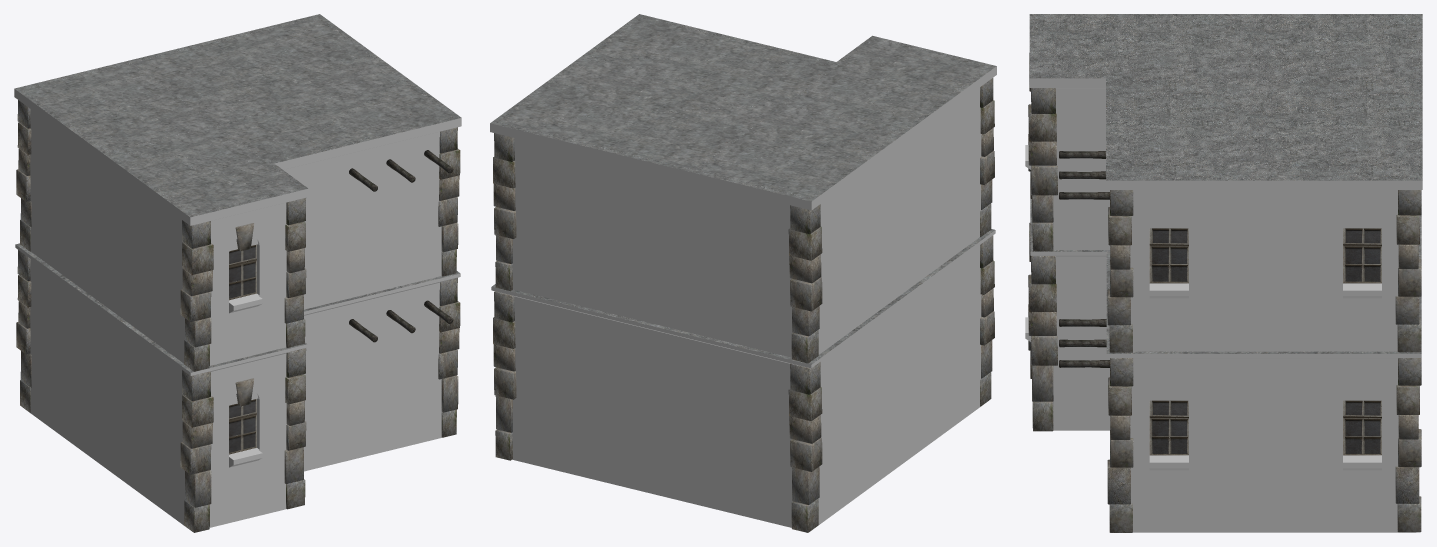
File: Building_04.fbx
3 renders of one model, left to right at view 1: azimuth 30°, elevation 25°; view 2: azimuth 150°, elevation 25°; view 3: azimuth 270°, elevation 25°, orthographic. The views are drawn at different scales.
Visible parts, largest first — view 1: Building_04; view 2: Building_04; view 3: Building_04.
Part boxes in pixels (<box>): Building_04: <box>14,14,461,532</box>; Building_04: <box>490,14,996,532</box>; Building_04: <box>1025,14,1422,532</box>.
Bounding box in the file's own units: 522 × 514 × 522.
